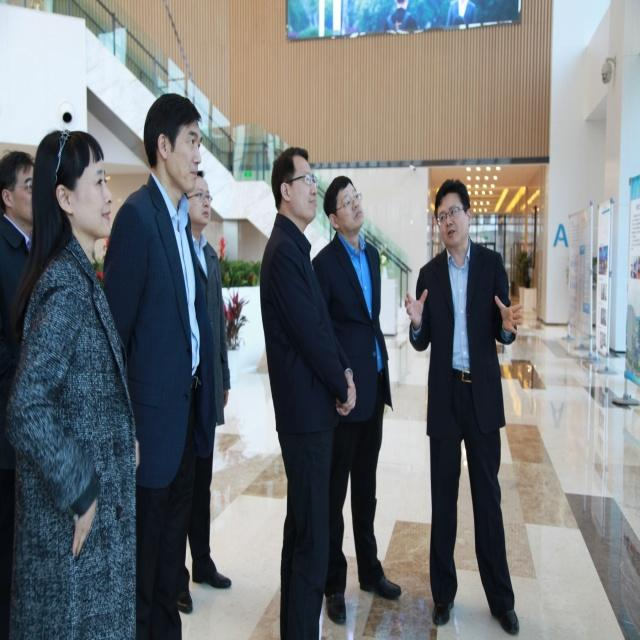helmet: (29, 168, 115, 347), (143, 125, 201, 260), (269, 195, 319, 308), (431, 232, 475, 333), (1, 197, 41, 307), (321, 229, 367, 324), (183, 229, 215, 315)
